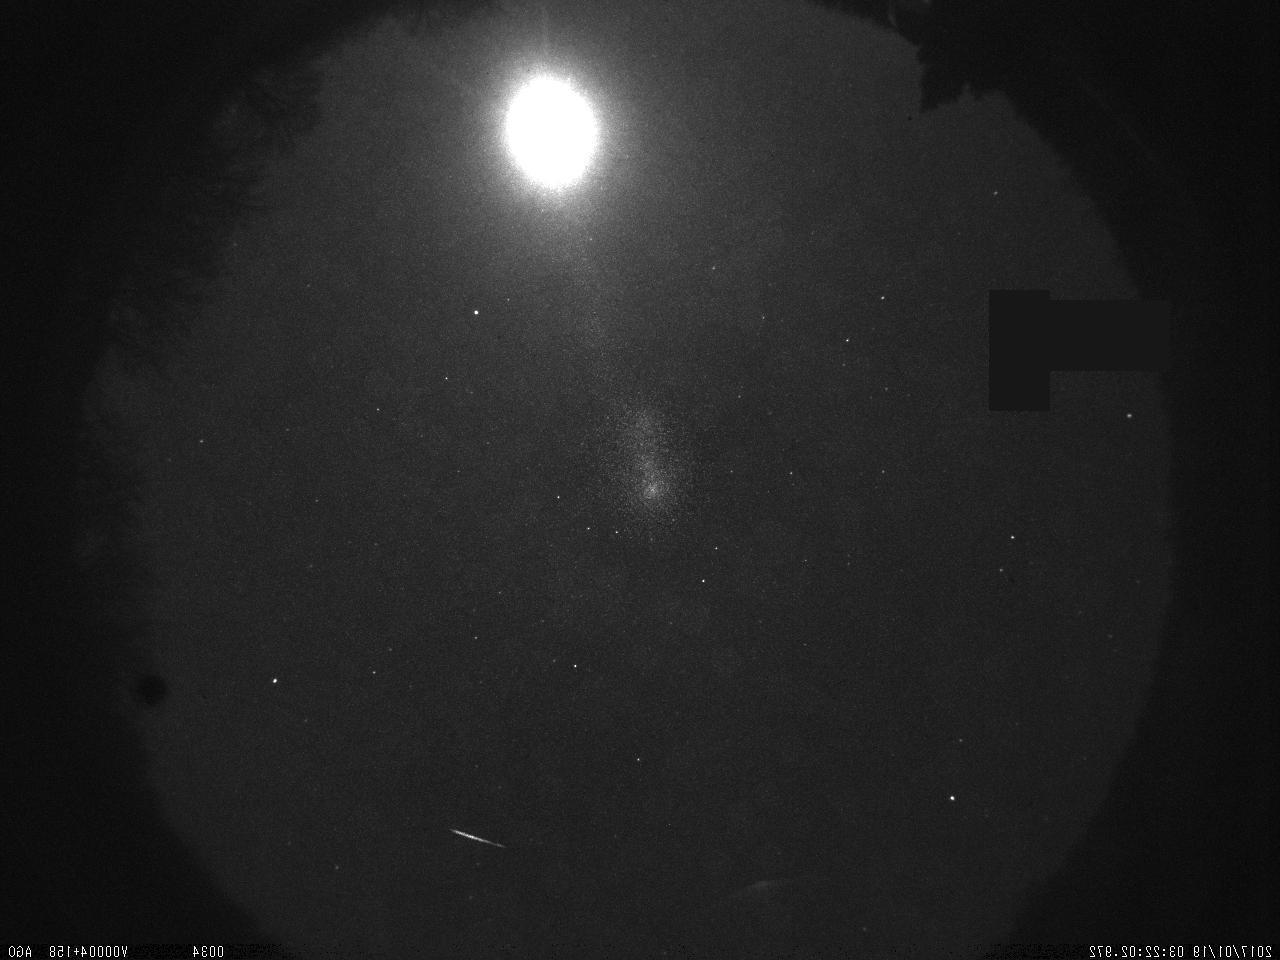meteor: (439, 822, 514, 854)
